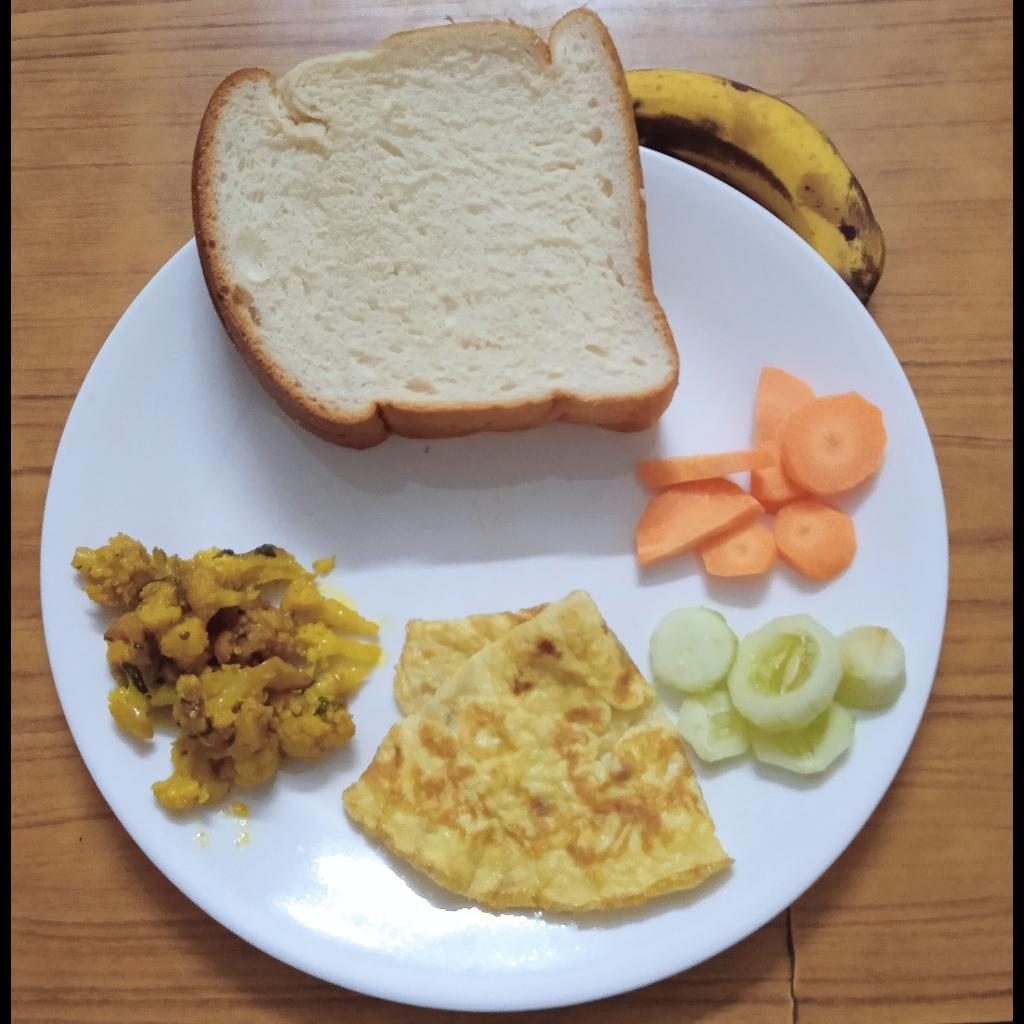banana: (623, 68, 887, 306)
bread: (190, 9, 680, 449)
carrot: (635, 368, 891, 582)
cauliflower: (69, 531, 382, 812)
cucumber: (650, 607, 909, 775)
egg-poached: (341, 591, 736, 913)
